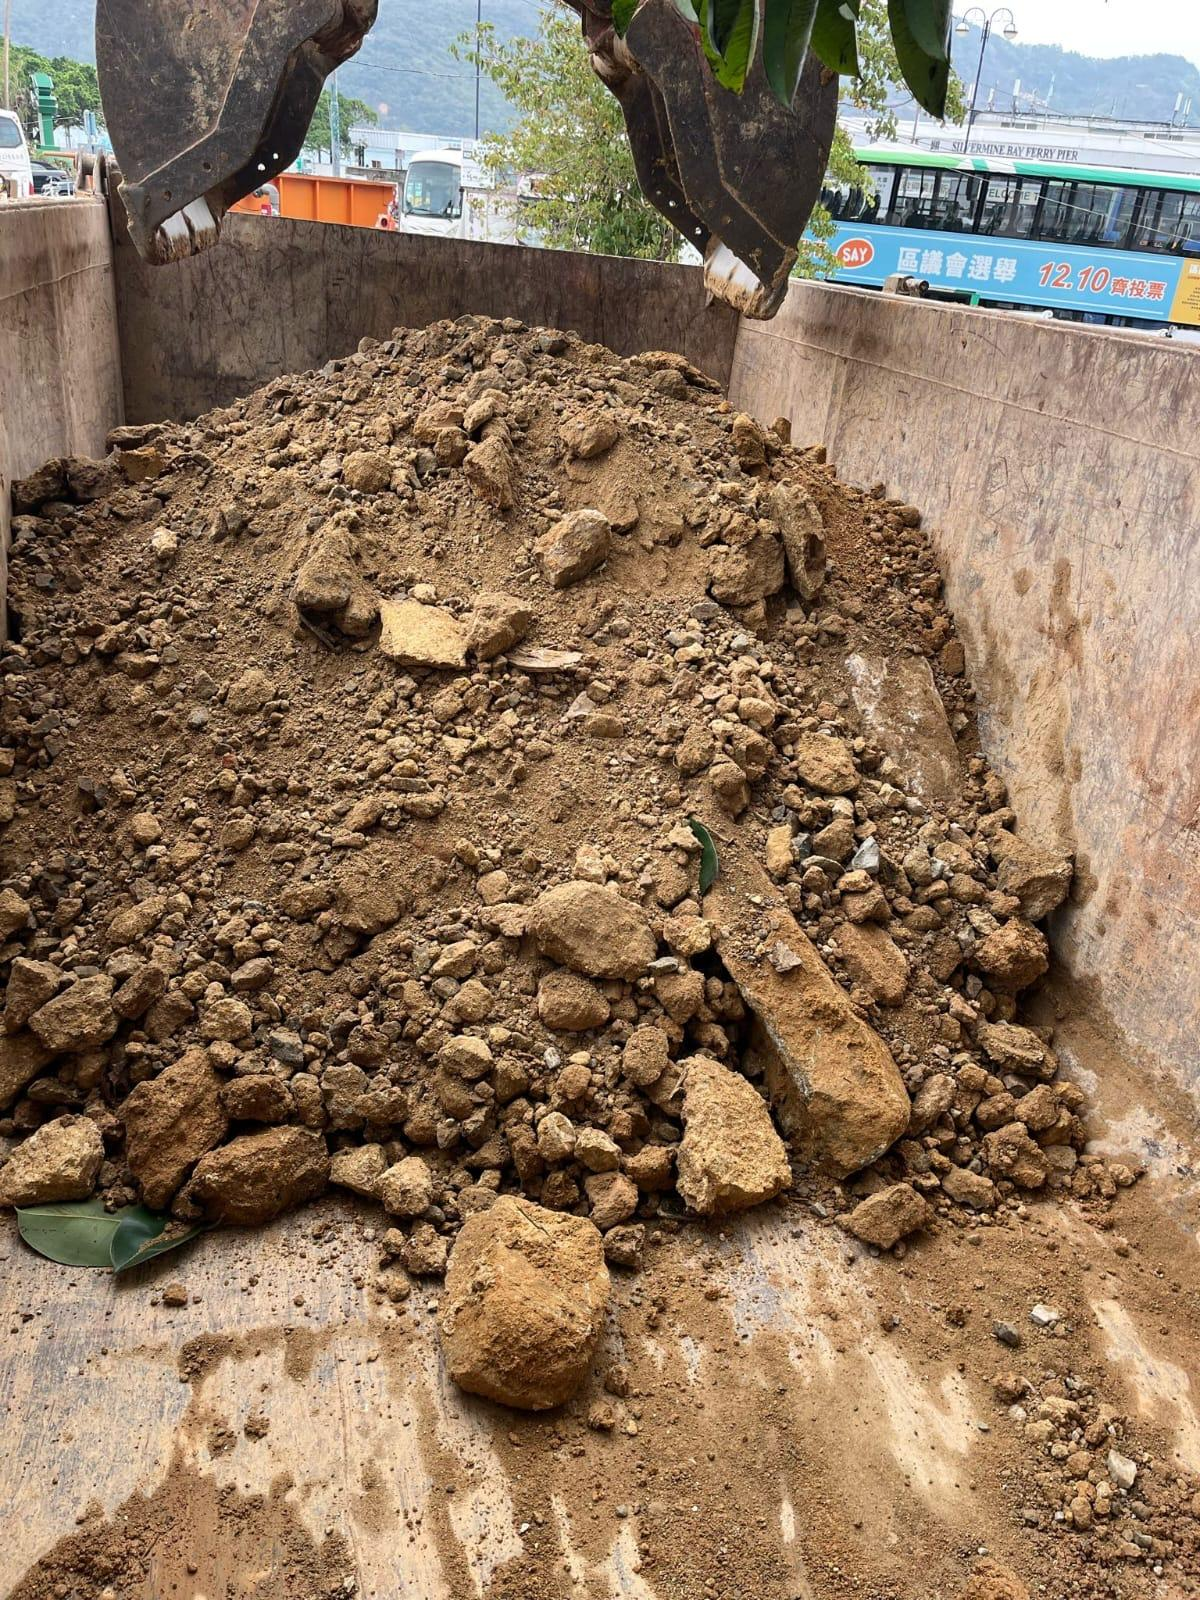wet: (0, 340, 1050, 1209)
